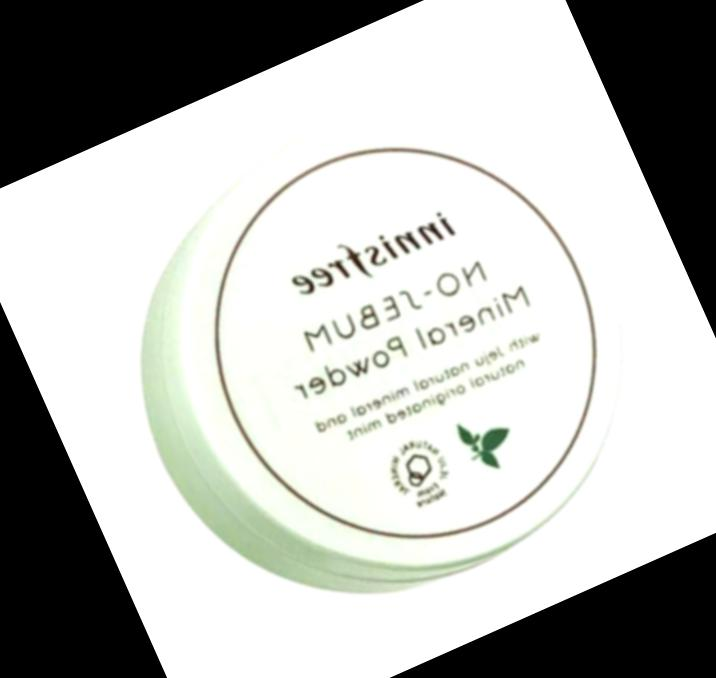cosmetic: (77, 55, 685, 653)
